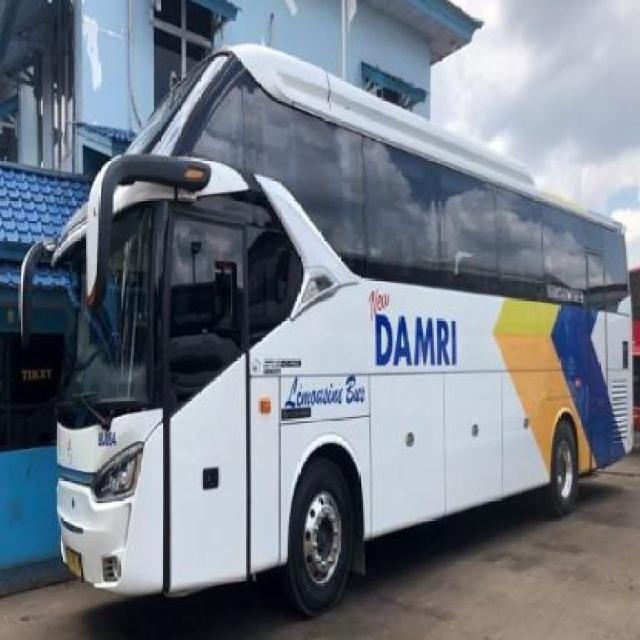Bus: (6, 34, 632, 611)
